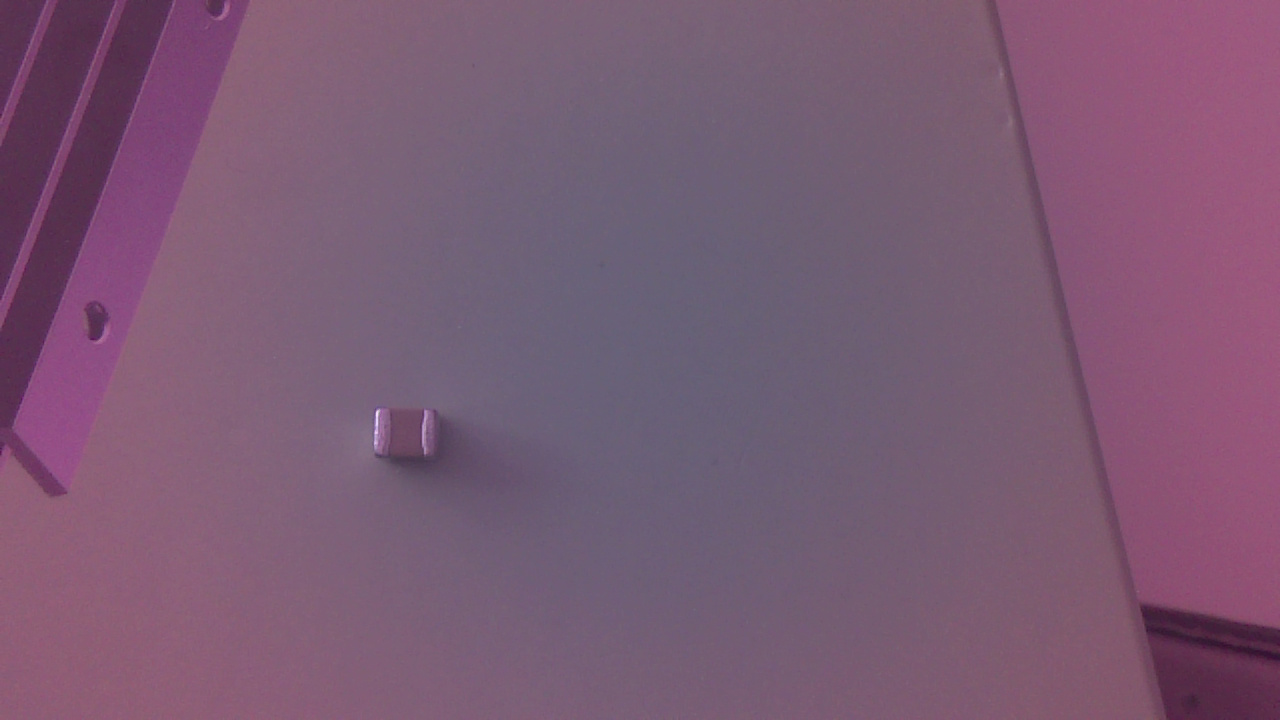Condensator: (373, 407, 451, 471)
